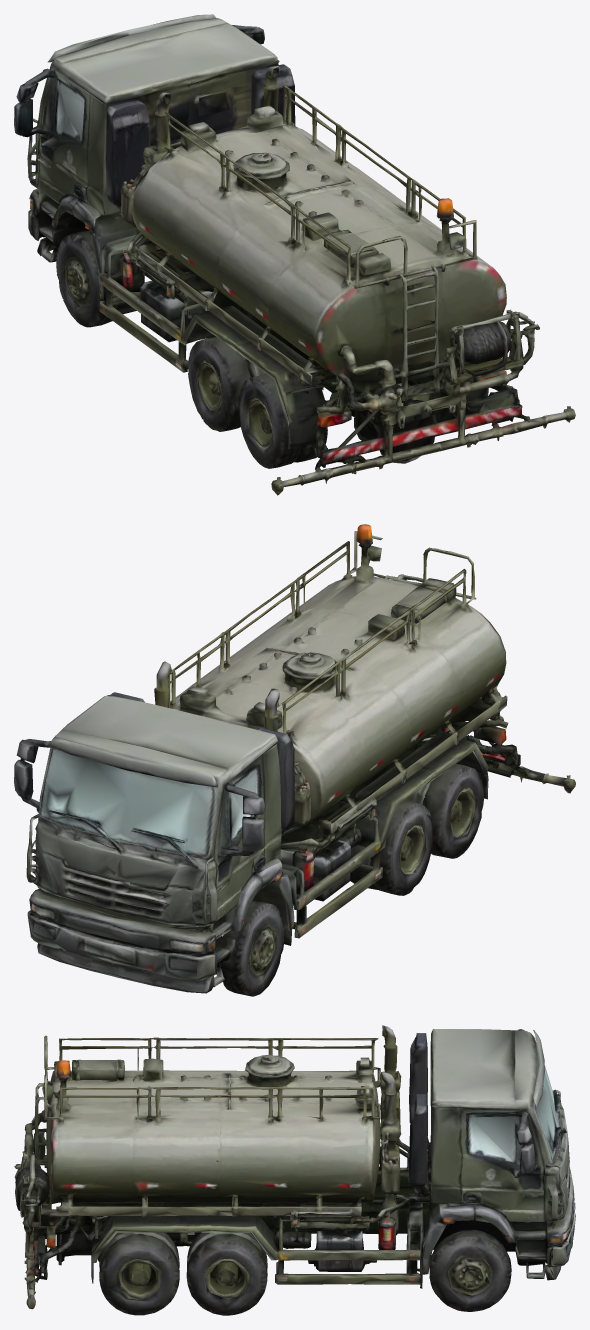
File: espargidor-cm30_lod0.glb
3 views of the same model, one above another, from view 1: azimuth 30°, elevation 25°; view 2: azimuth 150°, elevation 25°; view 3: azimuth 270°, elevation 25° (orthographic). The views are drawn at different scales.
Visible parts, largest first — view 1: tripo_node_9db3e624-c097-4351-9296-cec1f9bcd065; view 2: tripo_node_9db3e624-c097-4351-9296-cec1f9bcd065; view 3: tripo_node_9db3e624-c097-4351-9296-cec1f9bcd065.
Part boxes in pixels (left/top/right/bottom): tripo_node_9db3e624-c097-4351-9296-cec1f9bcd065: left=14, top=14, right=575, bottom=495; tripo_node_9db3e624-c097-4351-9296-cec1f9bcd065: left=14, top=524, right=575, bottom=996; tripo_node_9db3e624-c097-4351-9296-cec1f9bcd065: left=14, top=1025, right=575, bottom=1315.
Bounding box in the file's own units: 4.55 × 3.82 × 8.5.
Materials: 1 (1 with a texture image).
